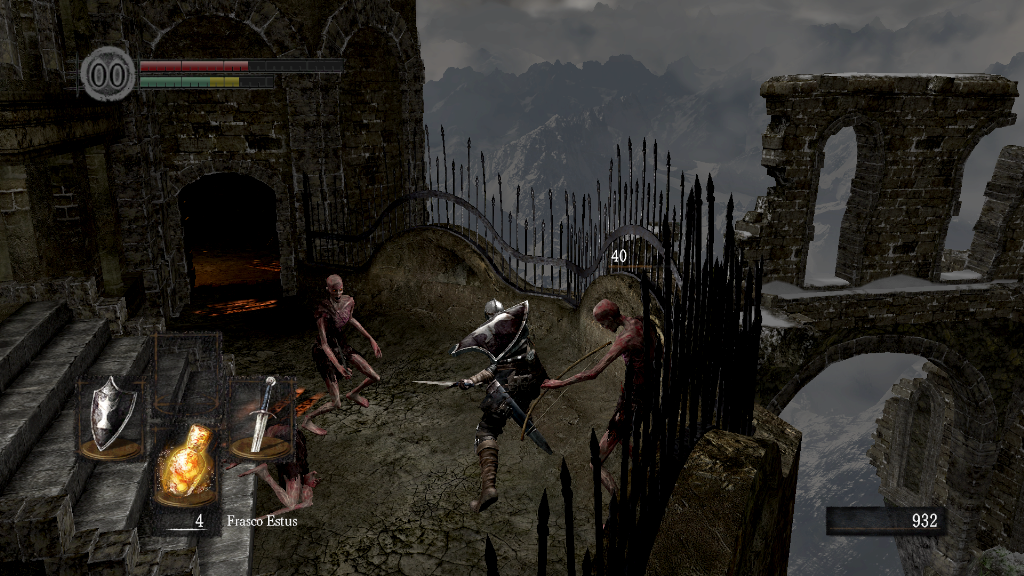health: (138, 58, 343, 71)
hollow: (545, 296, 667, 521), (291, 269, 389, 440)
humanity: (80, 45, 136, 102)
player: (410, 297, 555, 514)
souls: (825, 506, 945, 536)
stamina: (138, 74, 274, 88)
